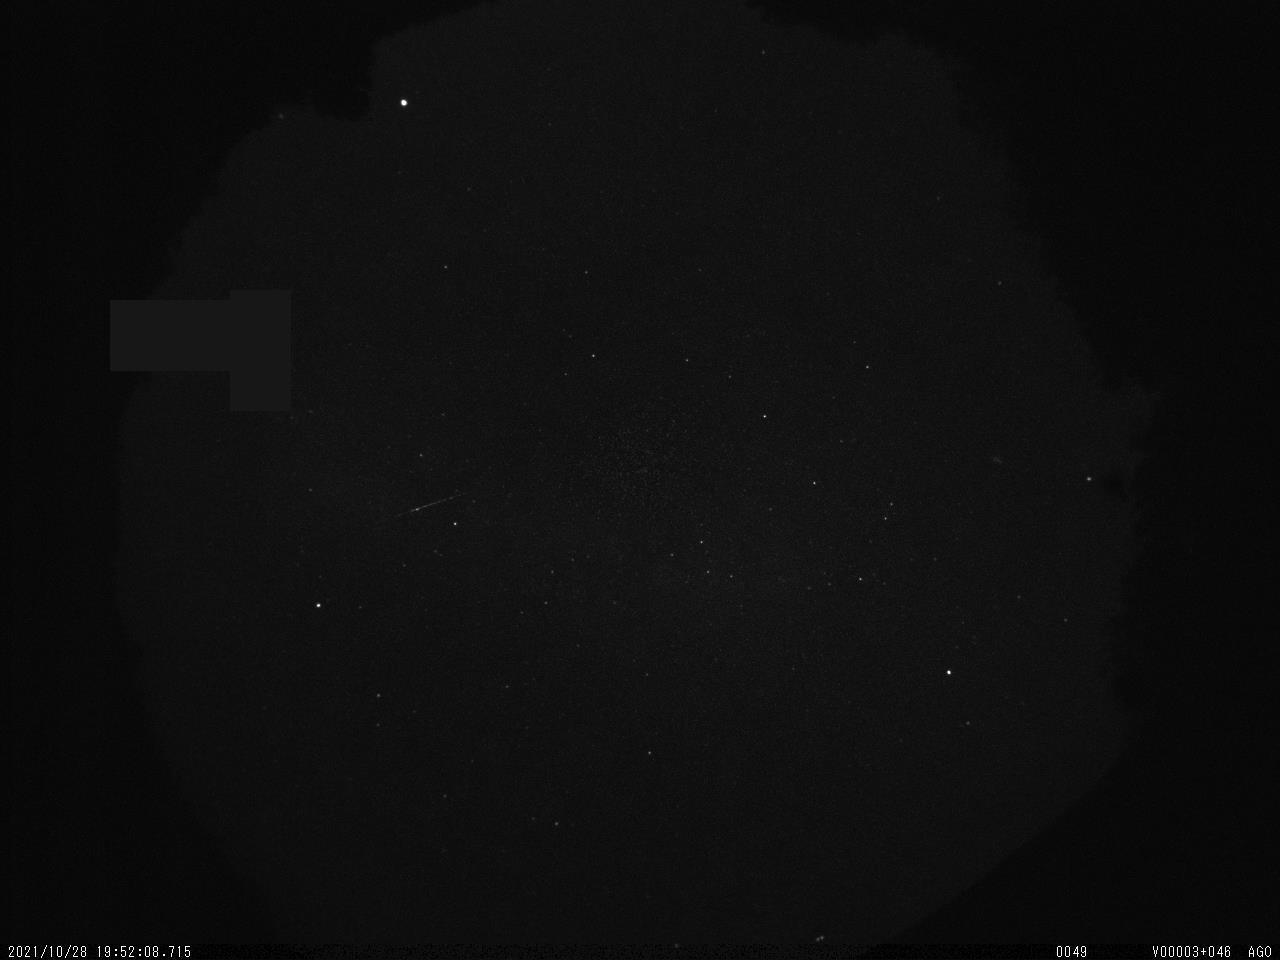meteor: (375, 491, 486, 522)
